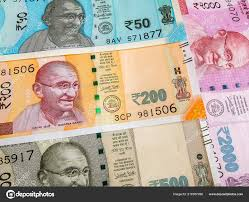fifty: (5, 2, 166, 38)
